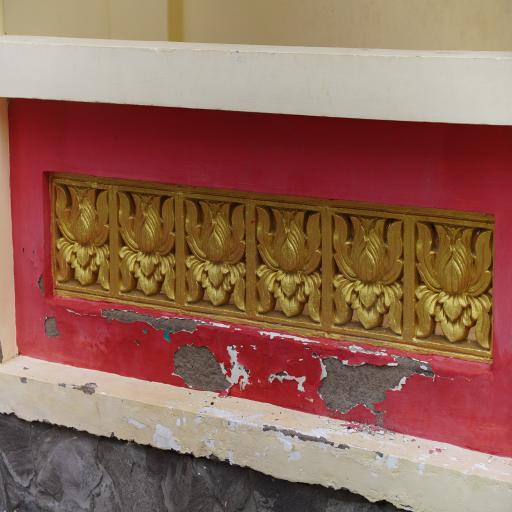hoa: (406, 212, 495, 348), (243, 188, 328, 317), (168, 182, 249, 310), (322, 208, 407, 328), (109, 181, 181, 294), (51, 181, 114, 290)
